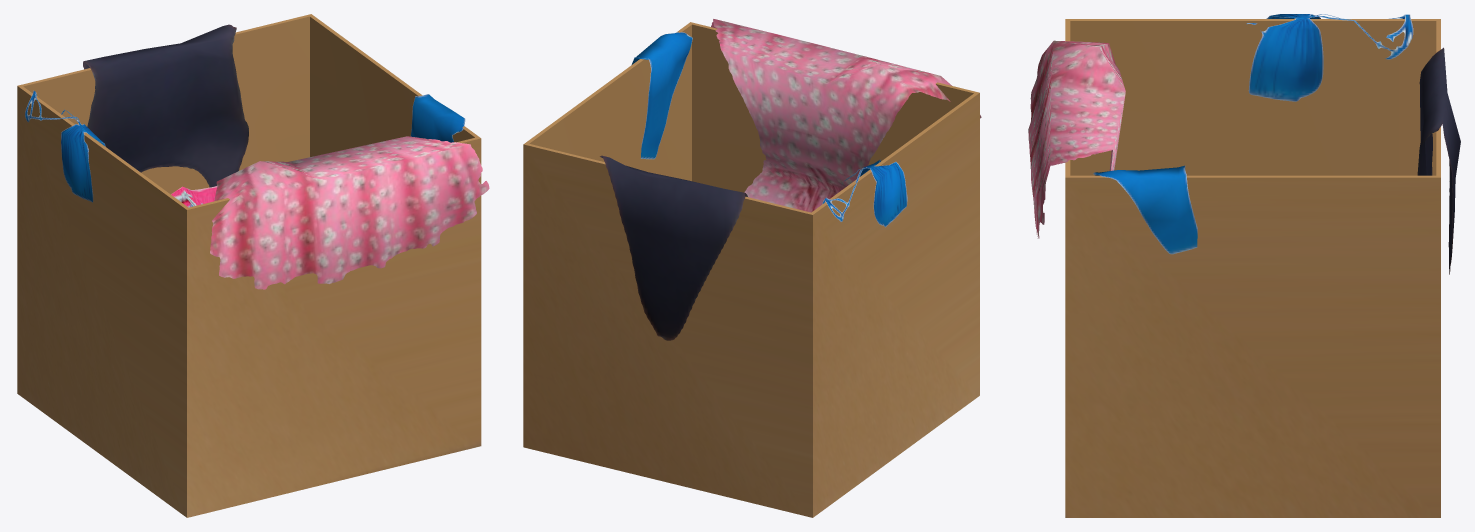
File: LostAndFound.fbx
3 renders of one model, left to right at view 1: azimuth 30°, elevation 25°; view 2: azimuth 150°, elevation 25°; view 3: azimuth 270°, elevation 25°, orthographic. The views are drawn at different scales.
Visible parts, largest first — view 1: Box, Plane, Box_inside; view 2: Box, Plane, Box_inside; view 3: Box, Box_inside, Plane.
Part boxes in pixels (left/top/right/bottom): Box: left=17, top=14, right=481, bottom=517; Plane: left=210, top=136, right=489, bottom=289; Box_inside: left=25, top=24, right=465, bottom=207; Box: left=523, top=22, right=979, bottom=517; Plane: left=711, top=19, right=981, bottom=212; Box_inside: left=600, top=32, right=907, bottom=340; Box: left=1065, top=19, right=1440, bottom=517; Box_inside: left=1093, top=14, right=1460, bottom=274; Plane: left=1028, top=40, right=1125, bottom=238.
Bounding box in the file's own units: 224 × 211 × 233.
